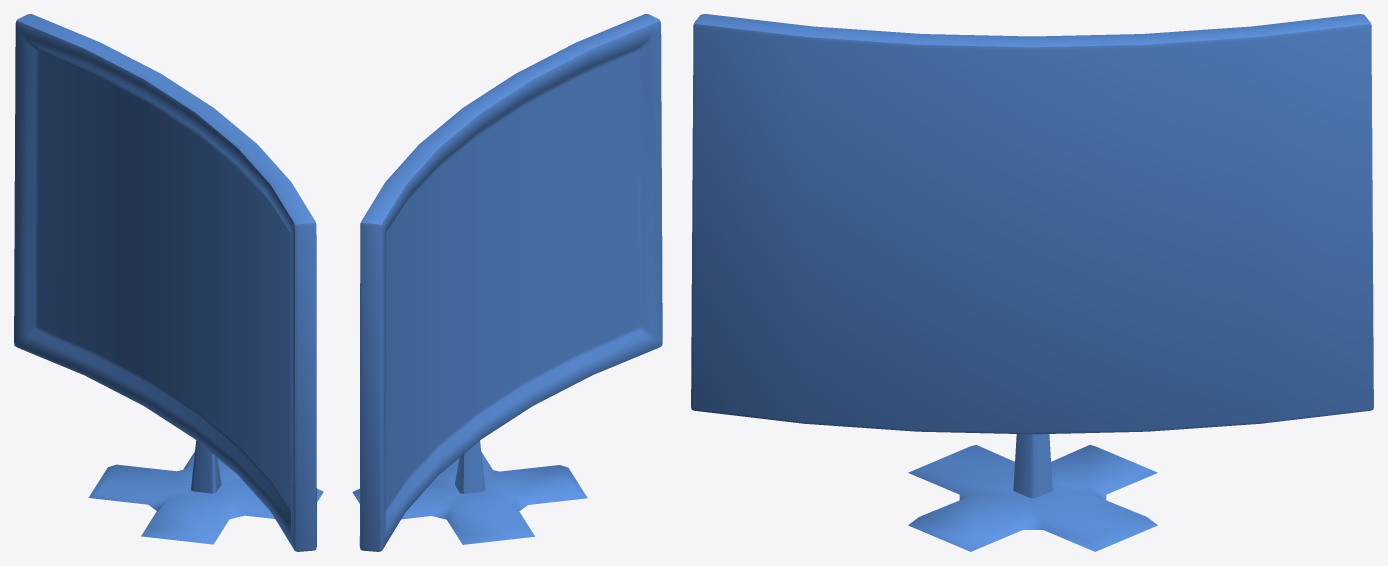
File: PantallaPequeñaCurva.fbx
The picture shows the model from 3 angles, left to right: view 1: azimuth 30°, elevation 25°; view 2: azimuth 150°, elevation 25°; view 3: azimuth 270°, elevation 25°; orthographic projection. The views are drawn at different scales.
Parts seen in each view (by area): view 1: PantallaPC2; view 2: PantallaPC2; view 3: PantallaPC2.
Boxes of the visible parts, left/top/right/bottom form: PantallaPC2: left=14, top=14, right=323, bottom=551; PantallaPC2: left=352, top=14, right=662, bottom=551; PantallaPC2: left=691, top=14, right=1373, bottom=551.
Bounding box in the file's own units: 34.2 × 68.91 × 93.3.
